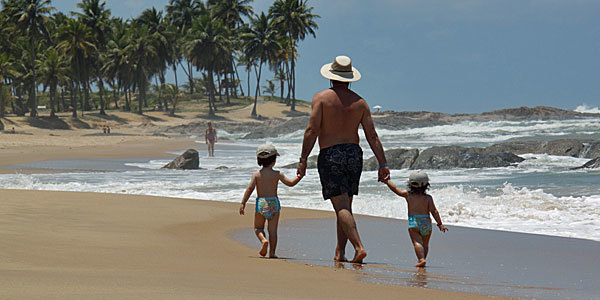Humano: (305, 51, 379, 269), (237, 144, 290, 260), (397, 166, 438, 273), (201, 120, 221, 162)
